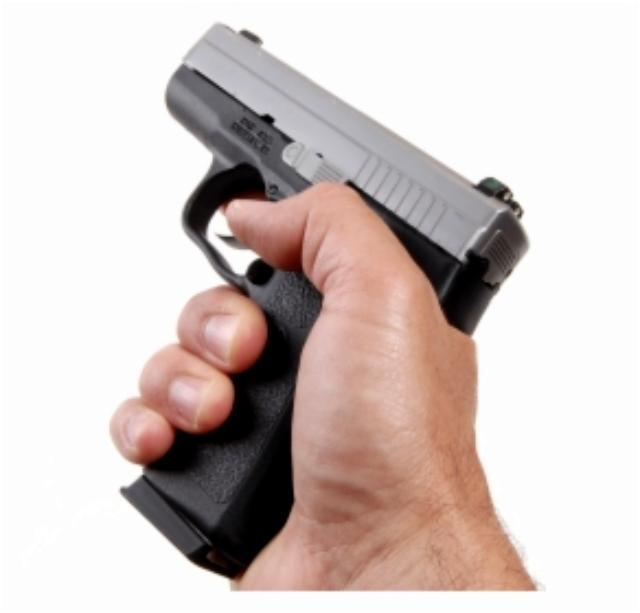pistol: (102, 6, 559, 601)
